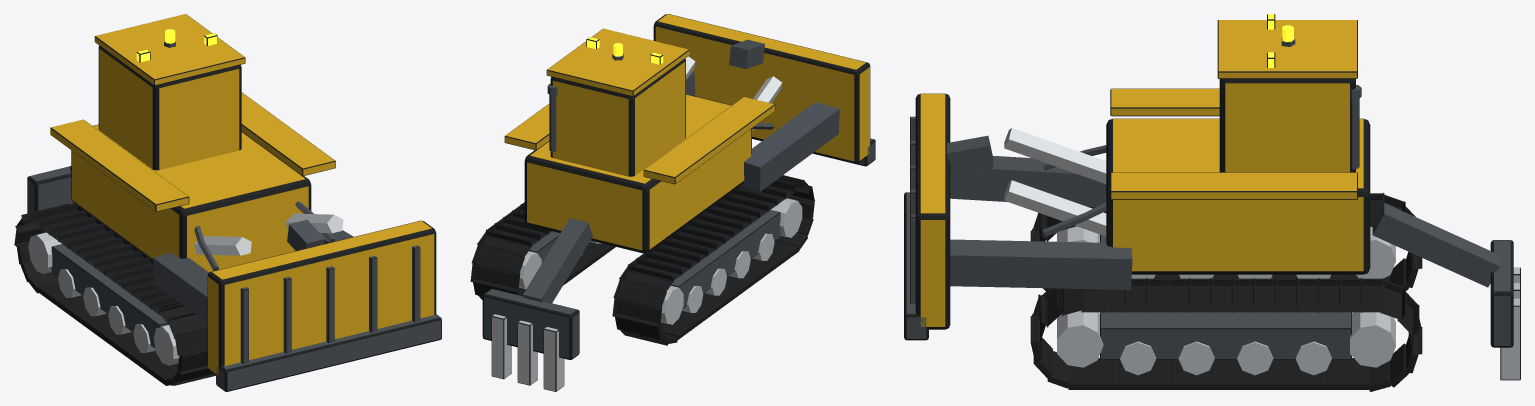
The model's file is veh_bulldozer.glb.
3 views of the same model, side by side, from view 1: azimuth 30°, elevation 25°; view 2: azimuth 150°, elevation 25°; view 3: azimuth 270°, elevation 25° (orthographic). The views are drawn at different scales.
Visible parts, largest first — view 1: veh_bulldozer; view 2: veh_bulldozer; view 3: veh_bulldozer.
Boxes of the visible parts, bbox=[...] form: veh_bulldozer: bbox=[14, 14, 441, 391]; veh_bulldozer: bbox=[470, 14, 875, 391]; veh_bulldozer: bbox=[904, 14, 1520, 391].
Size of the model in its own units: 3.55 by 4.46 by 7.48.
